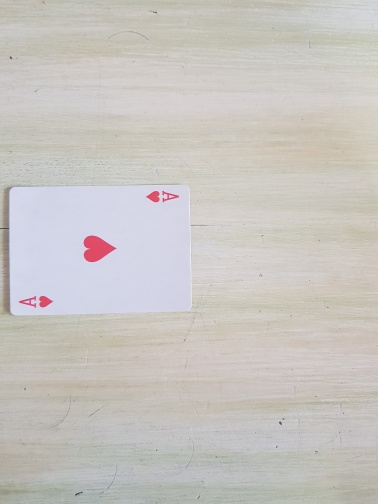ace: (9, 182, 192, 318)
